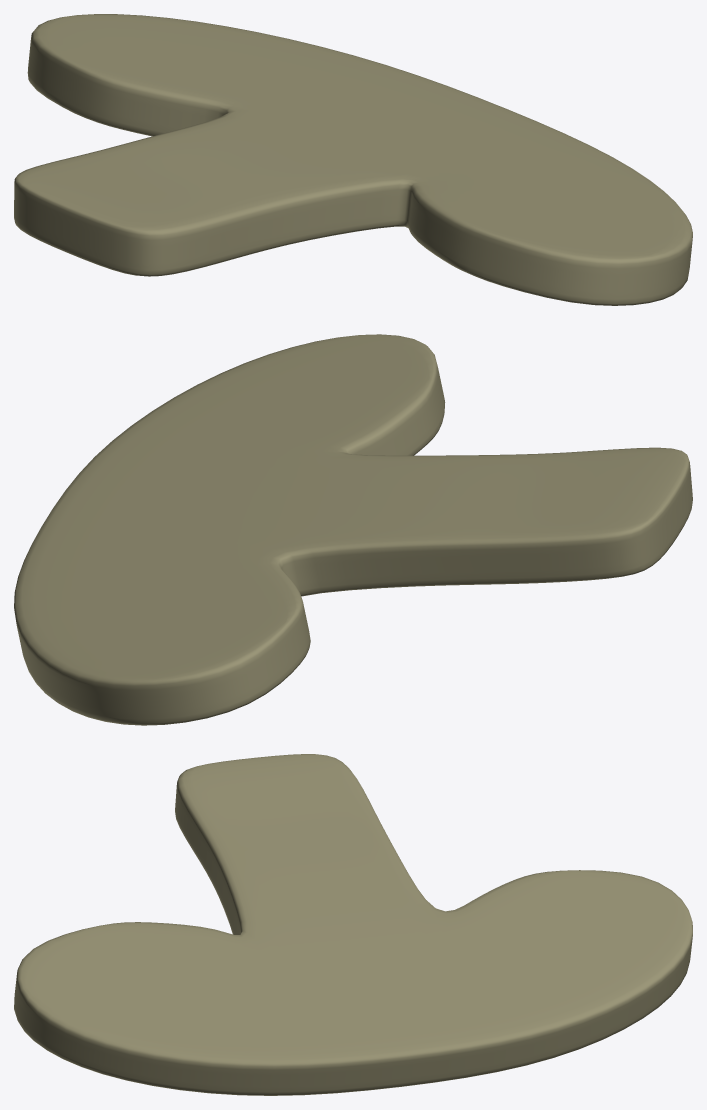
The model's file is Mushroom-slice4.obj.
The picture shows the model from 3 angles, top to bottom: view 1: azimuth 30°, elevation 25°; view 2: azimuth 150°, elevation 25°; view 3: azimuth 270°, elevation 25°; orthographic projection. The views are drawn at different scales.
Visible parts, largest first — view 1: Mushroom-slice4_Sphere.026; view 2: Mushroom-slice4_Sphere.026; view 3: Mushroom-slice4_Sphere.026.
Part boxes in pixels (bbox=[...]): Mushroom-slice4_Sphere.026: bbox=[14, 14, 692, 305]; Mushroom-slice4_Sphere.026: bbox=[14, 334, 692, 725]; Mushroom-slice4_Sphere.026: bbox=[14, 754, 692, 1095].
Size of the model in its own units: 0.041 by 0.00944 by 0.0501.
